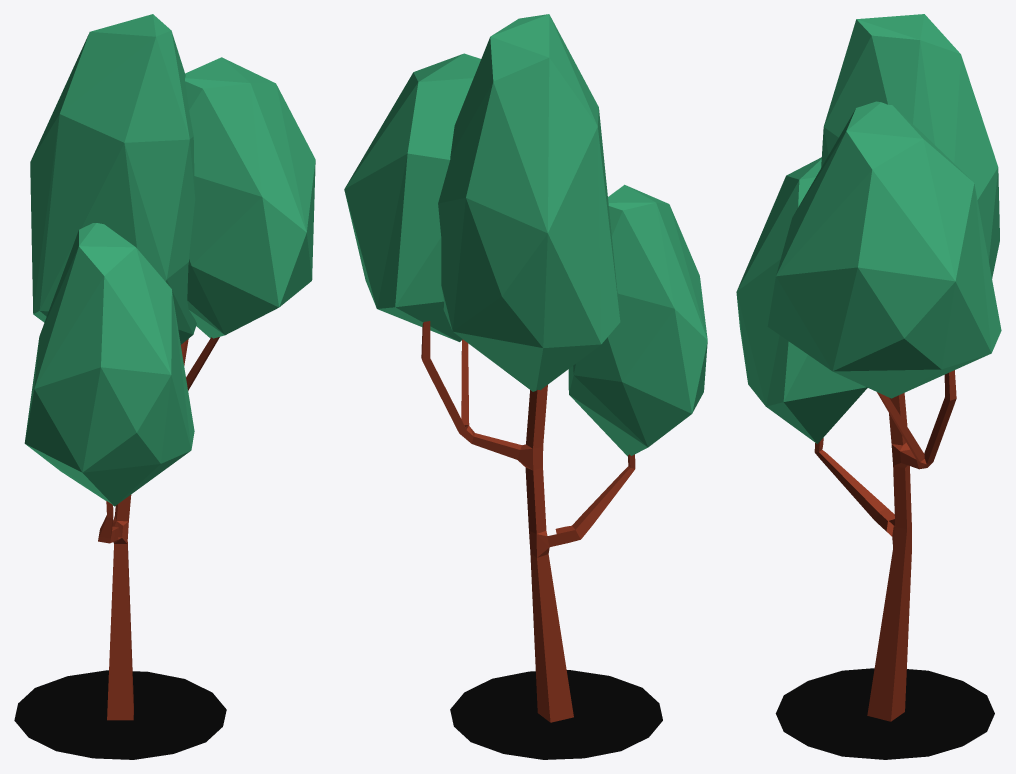
Rendered from Drzewo6.fbx.
The picture shows the model from 3 angles, left to right: view 1: azimuth 30°, elevation 25°; view 2: azimuth 150°, elevation 25°; view 3: azimuth 270°, elevation 25°; orthographic projection. The views are drawn at different scales.
Visible parts, largest first — view 1: Plane.014; view 2: Plane.014; view 3: Plane.014.
Part boxes in pixels (bbox=[...]): Plane.014: bbox=[14, 14, 315, 759]; Plane.014: bbox=[344, 14, 707, 759]; Plane.014: bbox=[736, 14, 1001, 759].
Size of the model in its own units: 543 by 1180 by 396.
